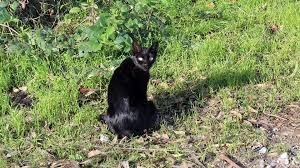cat: (88, 38, 168, 147)
